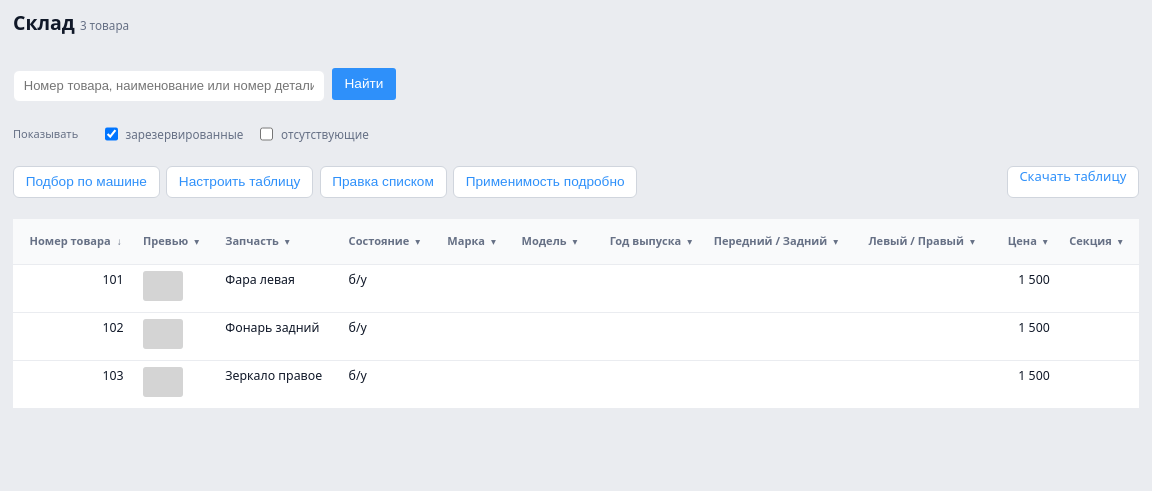
Test: печать этикеток из списка склада › «Отменить выделение» снимает отметку, и печатать становится нечего
Check: the row "101 Фара левая б/у 1 500" is shown, box x1=13 y1=264 x2=1139 y2=312
Click the button "Правка списком": (383, 182) x1=320 y1=166 x2=446 y2=198
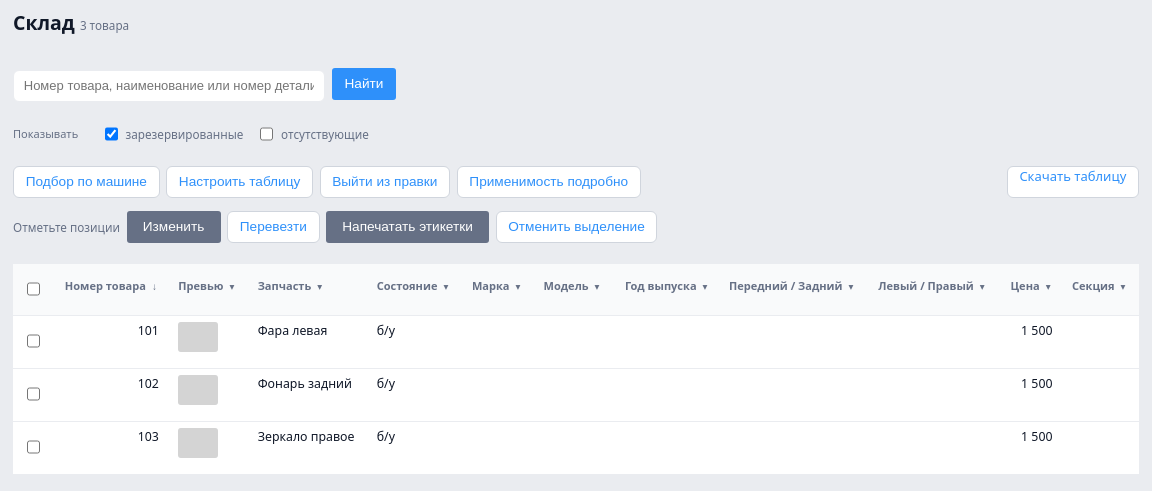
Click the row "101 Фара левая б/у 1 500": (576, 342) x1=13 y1=315 x2=1139 y2=368
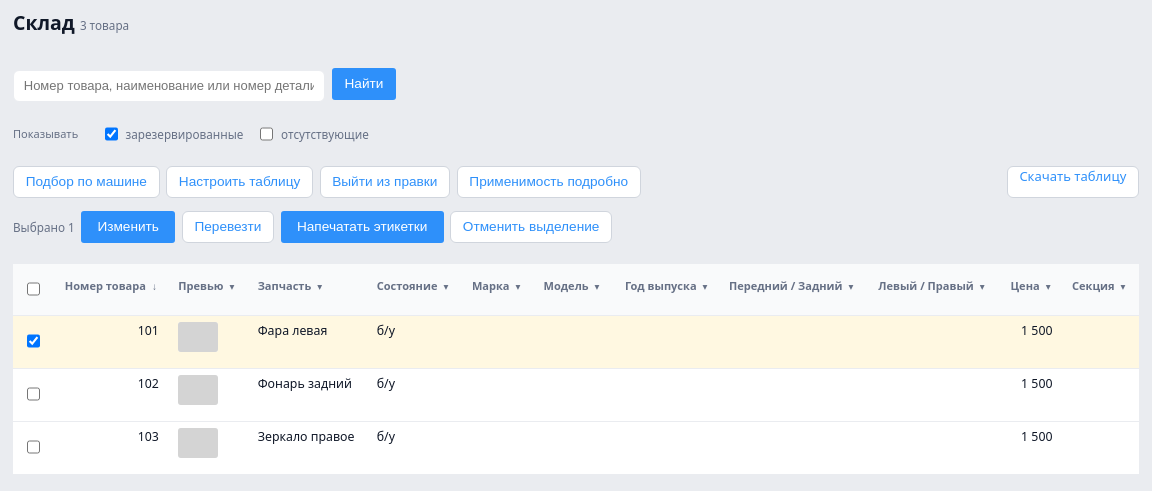
Click the row "102 Фонарь задний б/у 1 500": (576, 395) x1=13 y1=368 x2=1139 y2=421
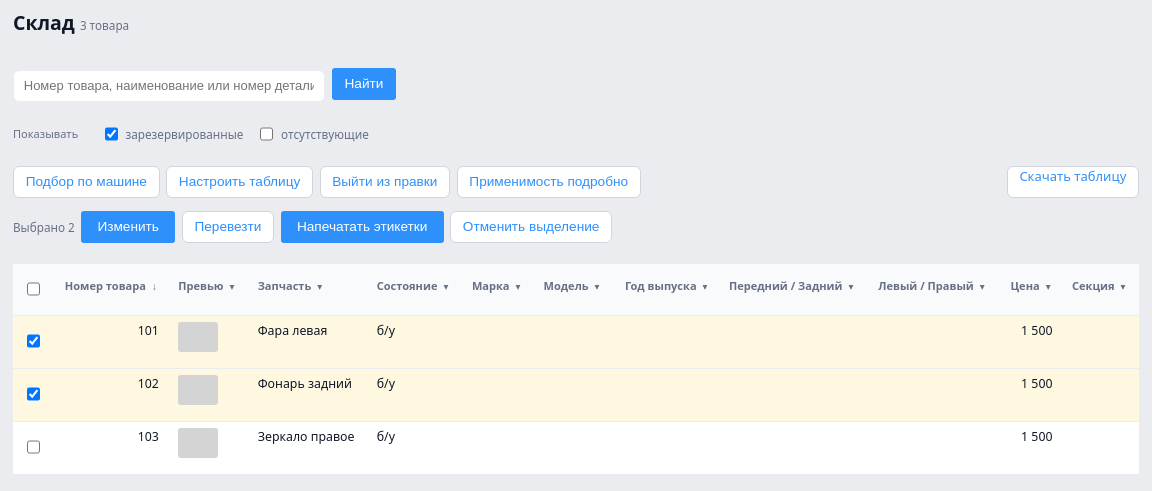
Click the row "103 Зеркало правое б/у 1 500": (576, 448) x1=13 y1=421 x2=1139 y2=474
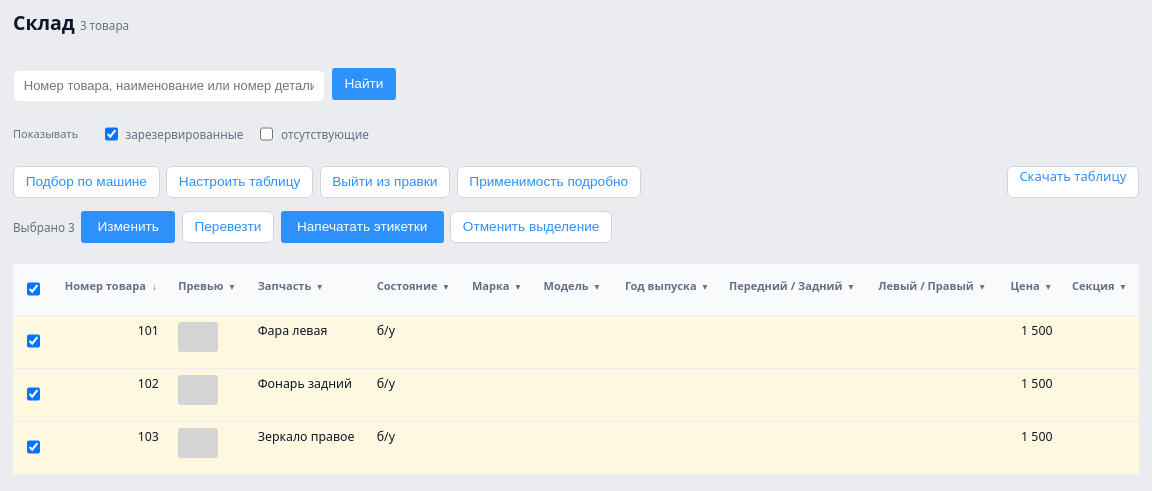
Check: the text "Выбрано 3" is shown, box x1=13 y1=219 x2=75 y2=235
Click the button "Отменить выделение": (531, 227) x1=450 y1=211 x2=612 y2=243
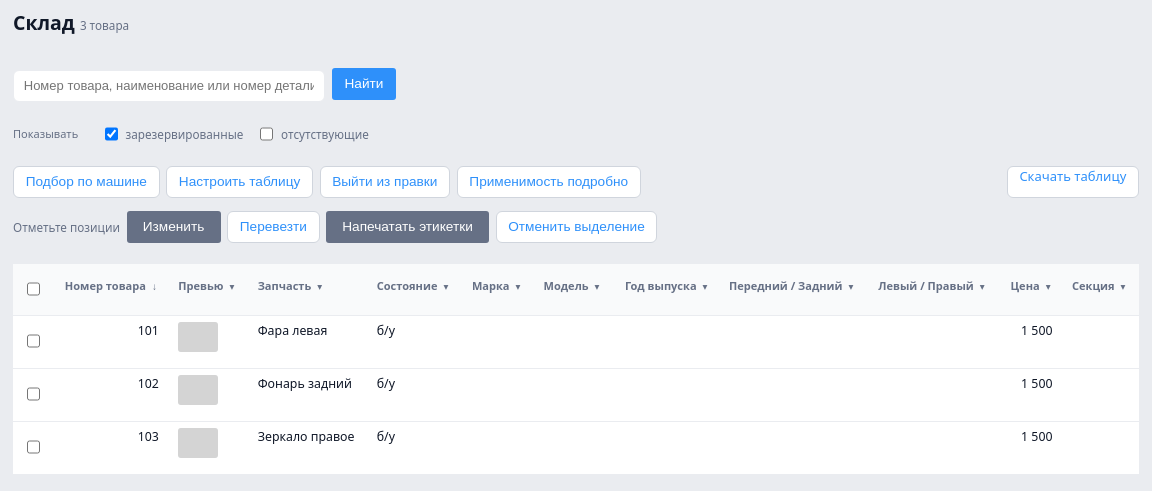
Check: the text "Отметьте позиции" is shown, box x1=13 y1=219 x2=120 y2=235
Check: the button "Напечатать этикетки" is disabled, box x1=326 y1=211 x2=489 y2=243
